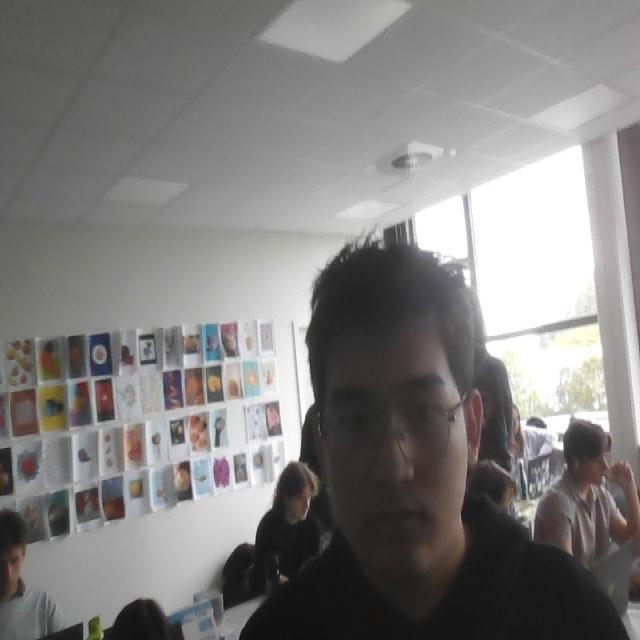opened_eye: (401, 402, 446, 432), (334, 408, 370, 438)
